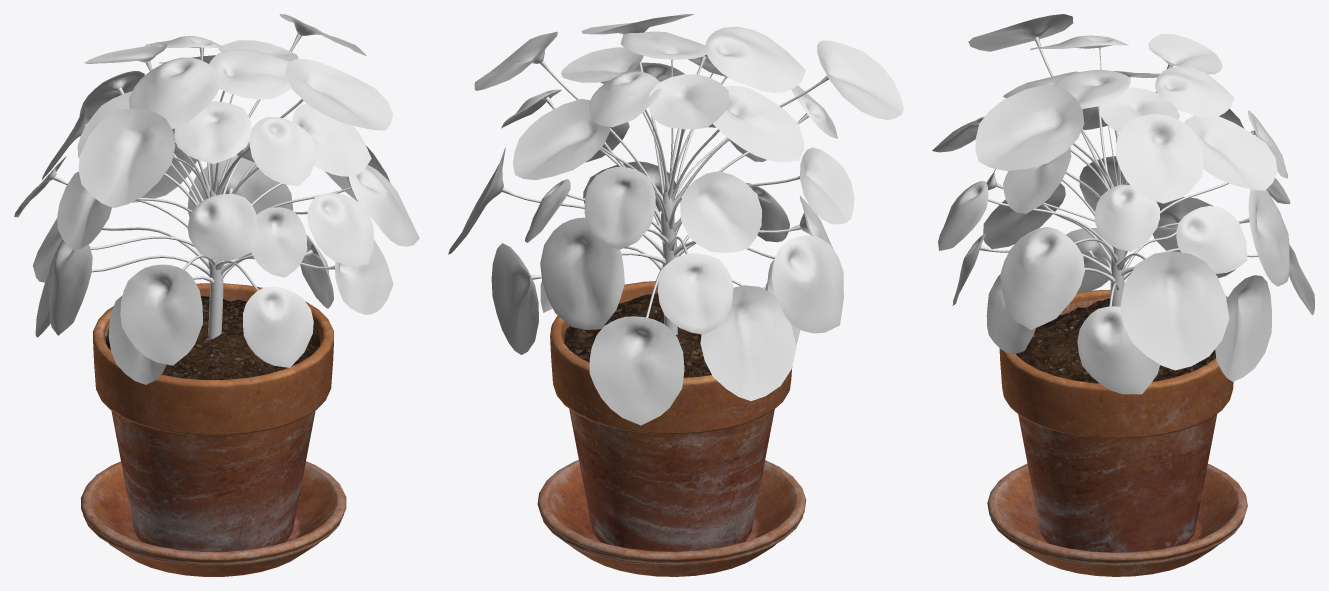
File: PILEA_PEPEROMIOIDES.fbx
3 views of the same model, side by side, from view 1: azimuth 30°, elevation 25°; view 2: azimuth 150°, elevation 25°; view 3: azimuth 270°, elevation 25° (orthographic). The views are drawn at different scales.
Visible parts, largest first — view 1: PILEA_PEPEROMIOIDES, POT_TERRACOTTA_SMALL; view 2: PILEA_PEPEROMIOIDES, POT_TERRACOTTA_SMALL; view 3: PILEA_PEPEROMIOIDES, POT_TERRACOTTA_SMALL.
Boxes of the visible parts, <box> form: PILEA_PEPEROMIOIDES: <box>14,14,419,384</box>; POT_TERRACOTTA_SMALL: <box>81,283,346,576</box>; PILEA_PEPEROMIOIDES: <box>448,14,903,425</box>; POT_TERRACOTTA_SMALL: <box>537,281,806,576</box>; PILEA_PEPEROMIOIDES: <box>932,14,1314,394</box>; POT_TERRACOTTA_SMALL: <box>987,290,1247,576</box>.
Bounding box in the file's own units: 36.8 × 47.83 × 34.56.
